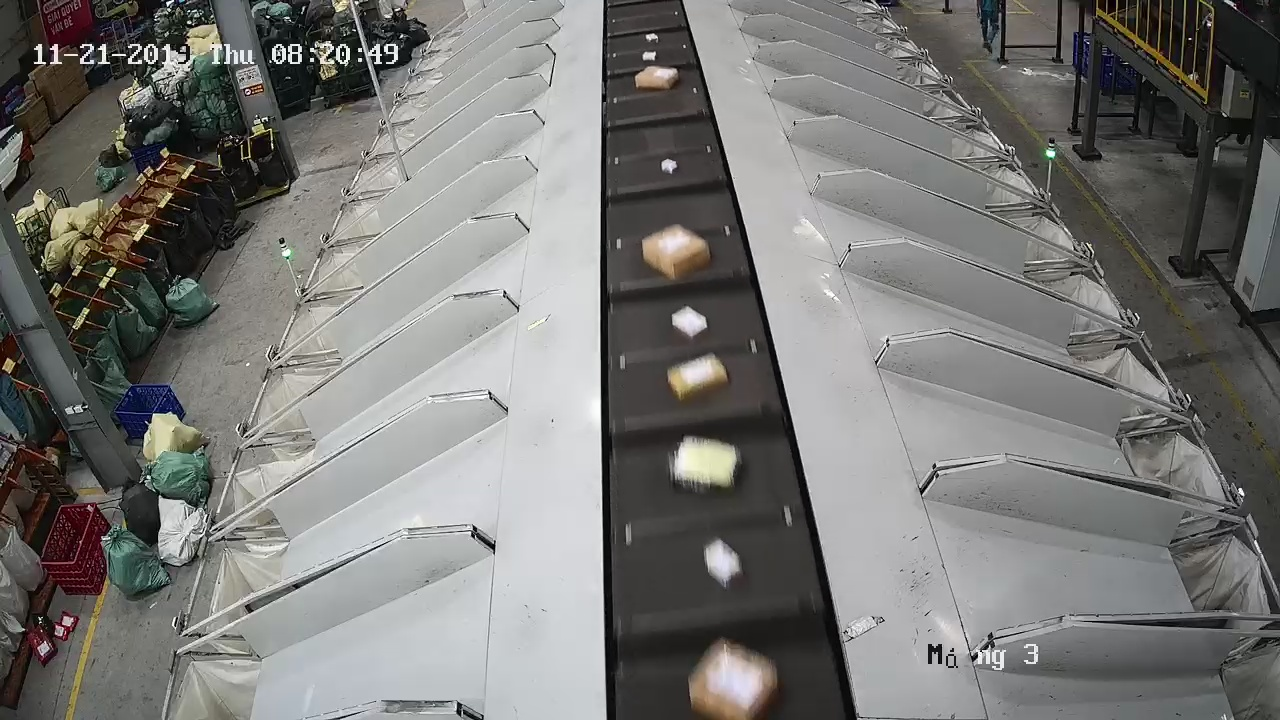parcel: (667, 431, 744, 497), (701, 536, 747, 592)
